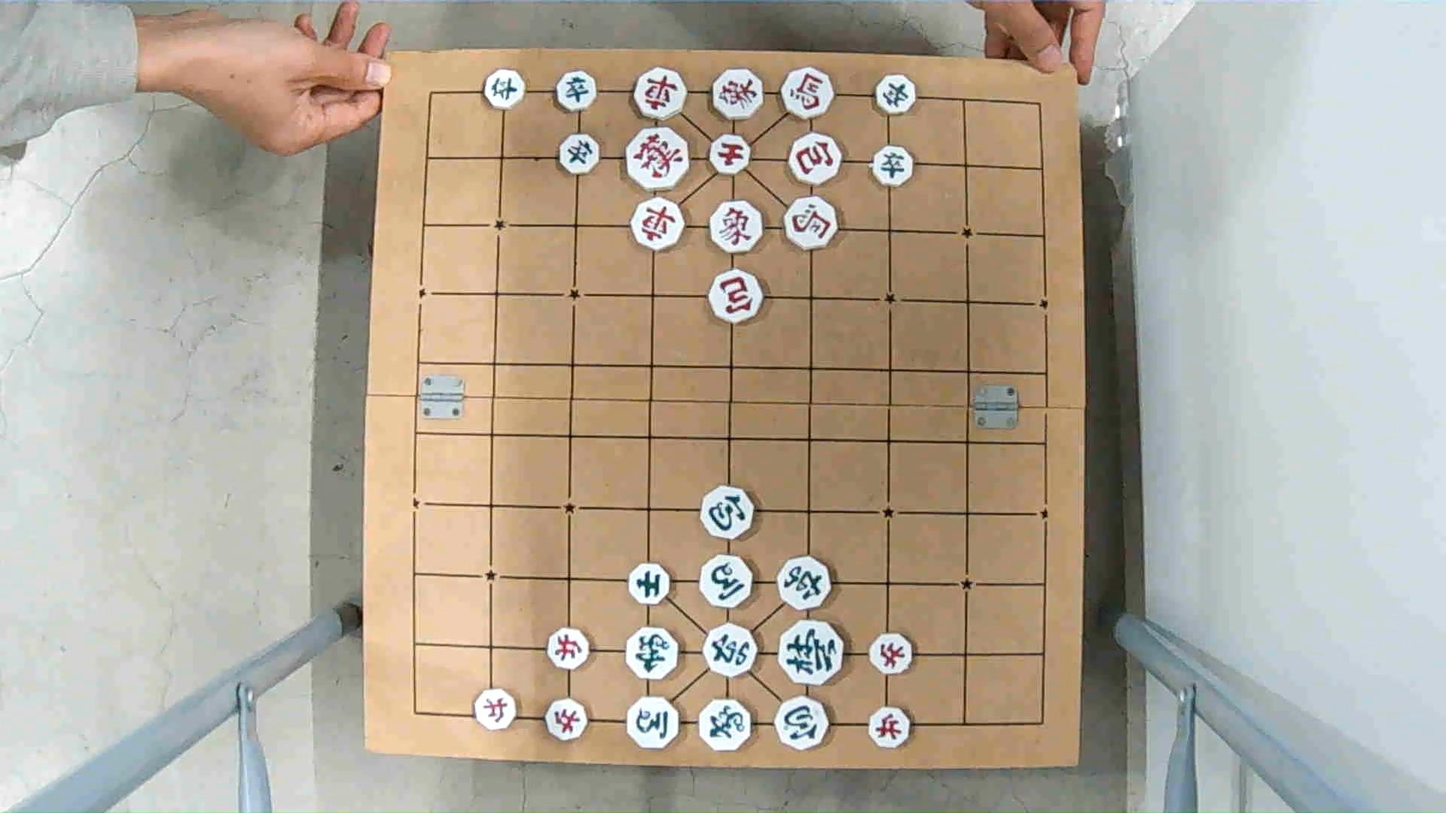cha_green: (703, 626, 760, 676), (776, 559, 831, 608)
cha_red: (636, 68, 688, 121), (630, 202, 685, 248)
jol_green: (485, 69, 527, 111), (875, 75, 920, 113), (872, 145, 917, 182), (557, 136, 599, 175), (555, 73, 596, 111)
jol_red: (545, 698, 592, 742), (866, 703, 909, 746), (869, 635, 916, 674), (544, 631, 590, 670), (472, 690, 517, 729)
ma_green: (626, 698, 682, 748), (700, 554, 751, 603)
ma_red: (783, 199, 840, 249), (779, 70, 835, 118)
po_green: (776, 699, 832, 748), (699, 486, 755, 535)
po_red: (707, 271, 765, 321), (792, 134, 846, 181)
sa_green: (627, 562, 673, 601)
sa_red: (708, 135, 752, 172)
sang_green: (622, 629, 681, 684), (698, 699, 752, 754)
sang_red: (708, 68, 761, 120), (711, 200, 764, 249)
wang_green: (779, 620, 844, 683)
wang_red: (624, 131, 689, 190)
